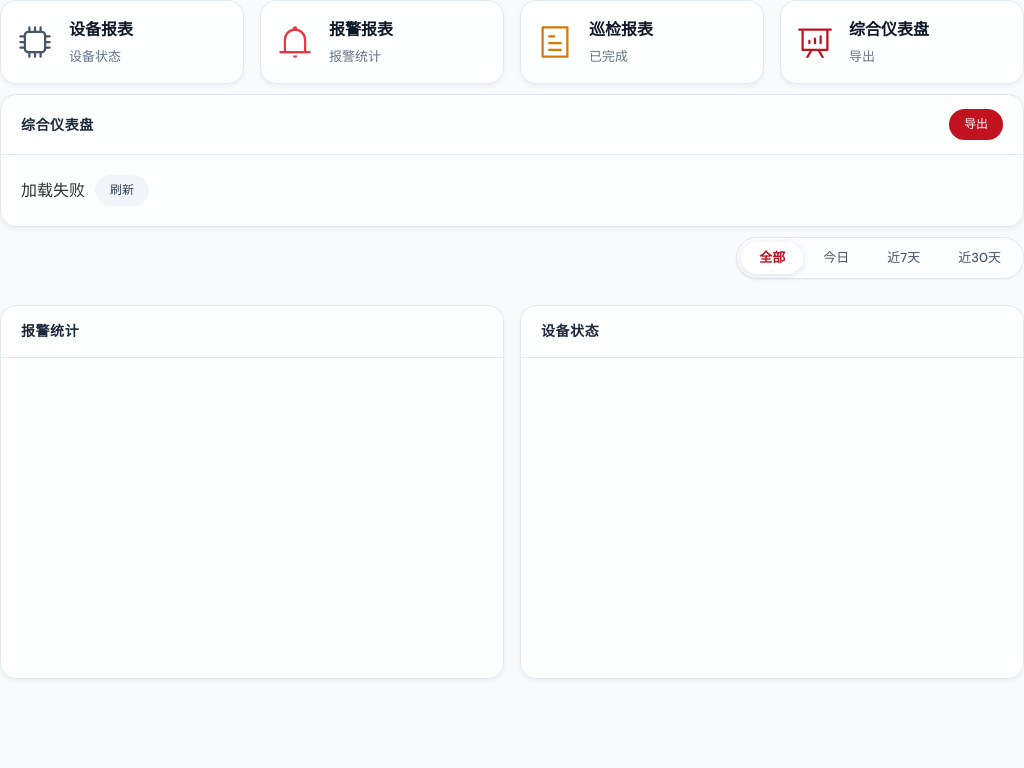
Scenario: ReportView 首屏加载与骨架替换 › 概览失败后点刷新：请求真的重发，成功后失败块换回数值格
Expected: the element with class "overview-failed" shows "加载失败", [21,180,85,201]
Click the button "刷新".
click(122, 191)  # box [95,175,149,206]
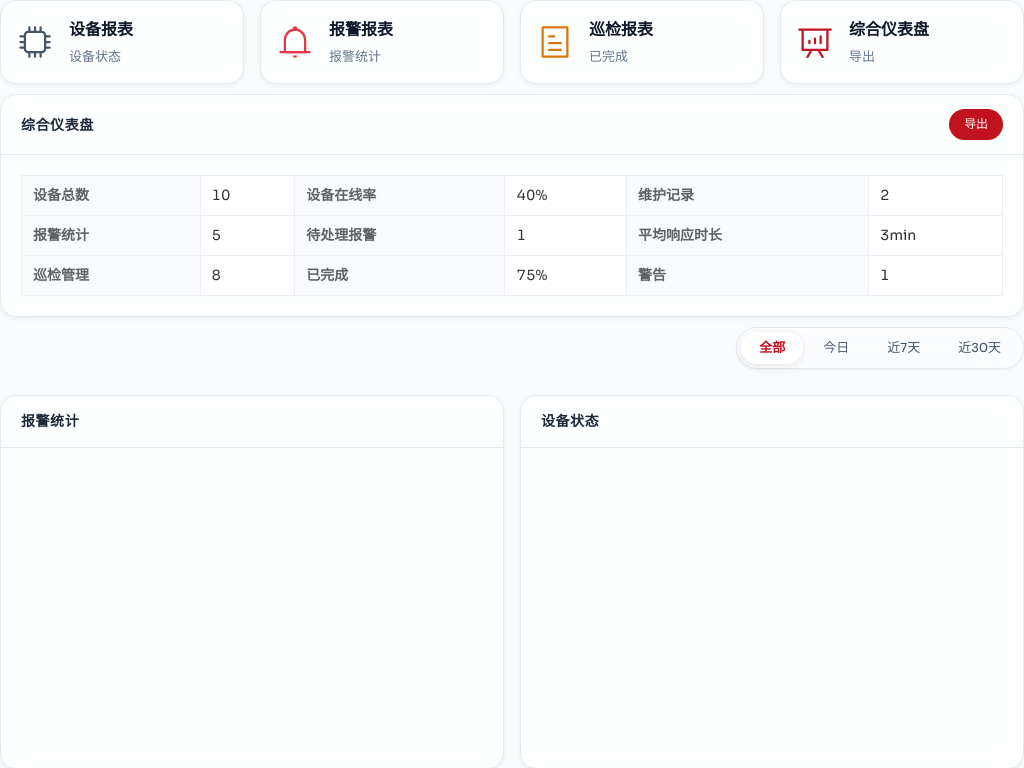
Now the element with class "overview-failed" is gone
